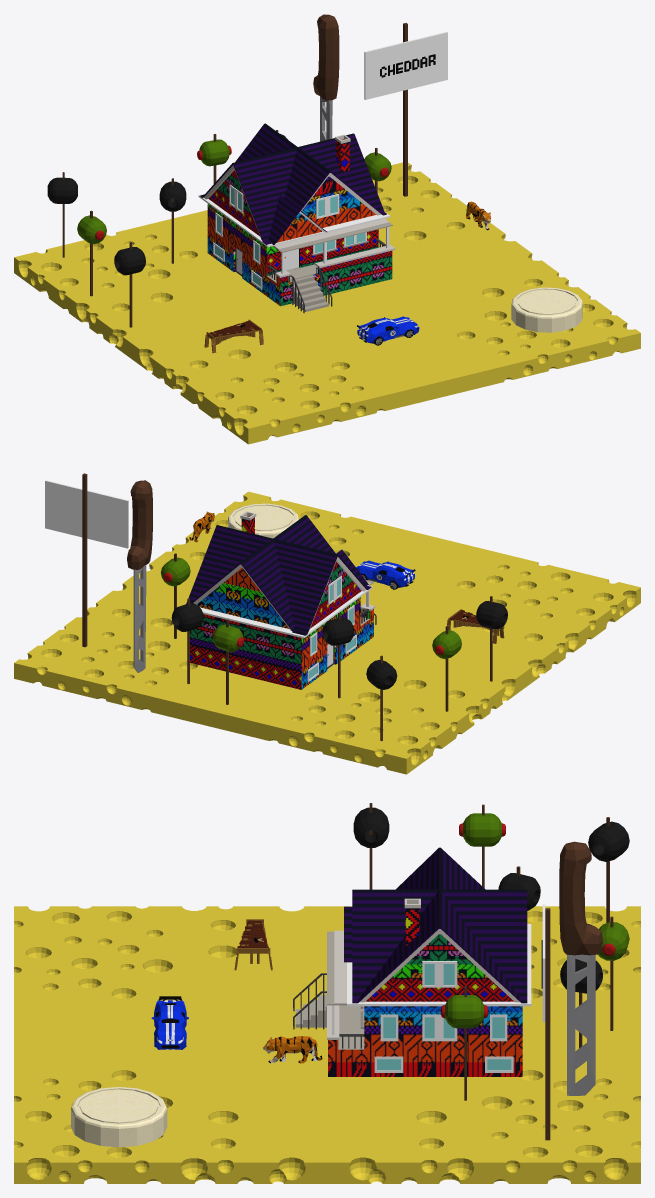
3 renders of one model, top to bottom at view 1: azimuth 30°, elevation 25°; view 2: azimuth 150°, elevation 25°; view 3: azimuth 270°, elevation 25°, orthographic. The views are drawn at different scales.
Parts seen in each view (by area): view 1: Cube.022, Cube.966, Cube.023, Cylinder.016, Cube.024, VEHICLES_RACING_CAR, Sphere.017, Sphere.016, Sphere.020, OBJRANDOM_MARIMBA, Sphere.018, Sphere.022 (+1 smaller); view 2: Cube.022, Cube.966, Cube.023, Cube.024, Cylinder.016, VEHICLES_RACING_CAR, Sphere.017, Sphere.020, Sphere.021, Sphere.016, Sphere.018, Sphere.022 (+2 smaller); view 3: Cube.022, Cube.966, Cube.024, Cylinder.016, Cube.023, VEHICLES_RACING_CAR, Sphere.019, Sphere.016, Sphere.018, Sphere.017, Sphere.022, ANIMAL_TIGRE (+3 smaller).
Boxes of the visible parts, box(x1,y1,x2,y2) form: Cube.022: box(14, 162, 640, 444); Cube.966: box(198, 123, 395, 313); Cube.023: box(364, 23, 447, 196); Cylinder.016: box(511, 287, 582, 332); Cube.024: box(313, 14, 339, 141); VEHICLES_RACING_CAR: box(357, 316, 419, 345); Sphere.017: box(114, 242, 145, 327); Sphere.016: box(47, 172, 77, 257); Sphere.020: box(159, 178, 186, 263); OBJRANDOM_MARIMBA: box(204, 319, 263, 353); Sphere.018: box(77, 210, 106, 296); Sphere.022: box(197, 134, 231, 183); Cube.022: box(14, 491, 640, 774); Cube.966: box(185, 511, 376, 689); Cube.023: box(45, 473, 128, 647); Cube.024: box(127, 480, 152, 672); Cylinder.016: box(228, 503, 298, 538); VEHICLES_RACING_CAR: box(356, 560, 415, 589); Sphere.017: box(476, 596, 507, 681); Sphere.020: box(322, 612, 354, 698); Sphere.021: box(171, 598, 203, 683); Sphere.016: box(366, 655, 397, 741); Sphere.018: box(432, 626, 461, 711); Sphere.022: box(212, 619, 244, 704); Cube.022: box(14, 906, 640, 1183); Cube.966: box(293, 847, 531, 1076); Cube.024: box(559, 841, 602, 1095); Cylinder.016: box(71, 1086, 167, 1147); Cube.023: box(541, 904, 550, 1140); VEHICLES_RACING_CAR: box(151, 996, 188, 1049); Sphere.019: box(441, 986, 487, 1100); Sphere.016: box(588, 817, 629, 922); Sphere.018: box(459, 804, 505, 887); Sphere.017: box(353, 803, 389, 889); Sphere.022: box(598, 916, 629, 1030); ANIMAL_TIGRE: box(263, 1036, 322, 1063).
Size of the model in its own units: 3917 by 2007 by 4000.
Materials: 48 (7 with a texture image).
